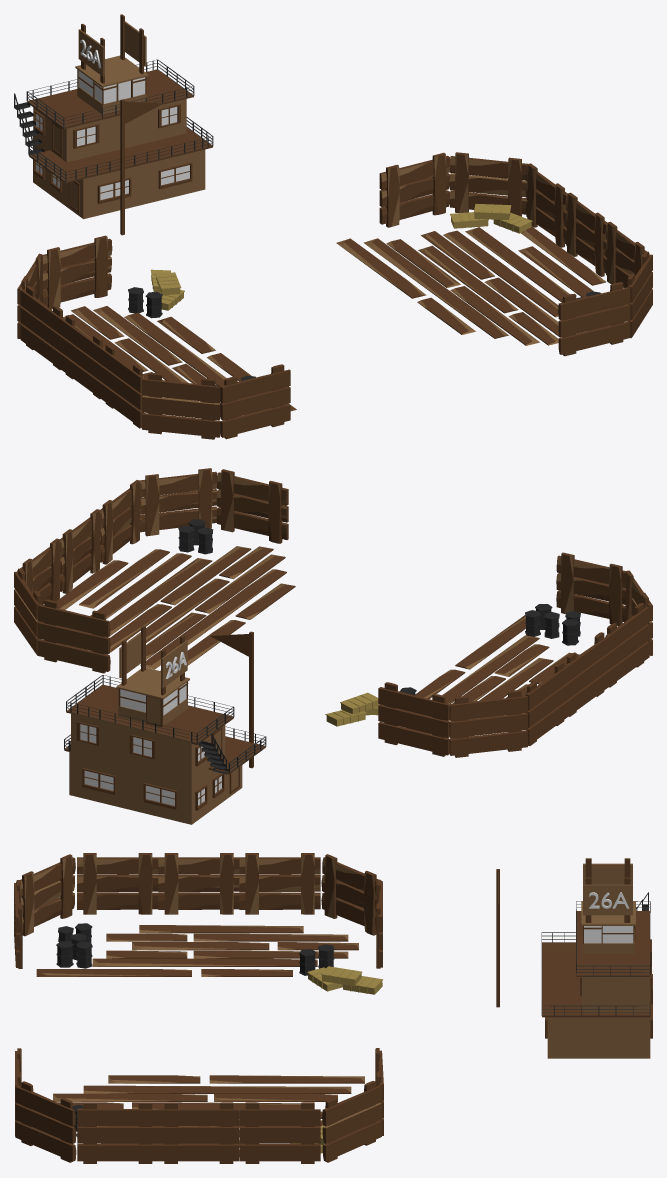
Rendered from Airfield.fbx.
3 views of the same model, one above another, from view 1: azimuth 30°, elevation 25°; view 2: azimuth 150°, elevation 25°; view 3: azimuth 270°, elevation 25° (orthographic).
Visible parts, largest first — view 1: Airfield; view 2: Airfield; view 3: Airfield.
Boxes of the visible parts, left/top/right/bottom form: Airfield: left=14, top=14, right=652, bottom=439; Airfield: left=14, top=468, right=652, bottom=824; Airfield: left=14, top=853, right=652, bottom=1163.
Bounding box in the file's own units: 1108 × 325 × 1178.
